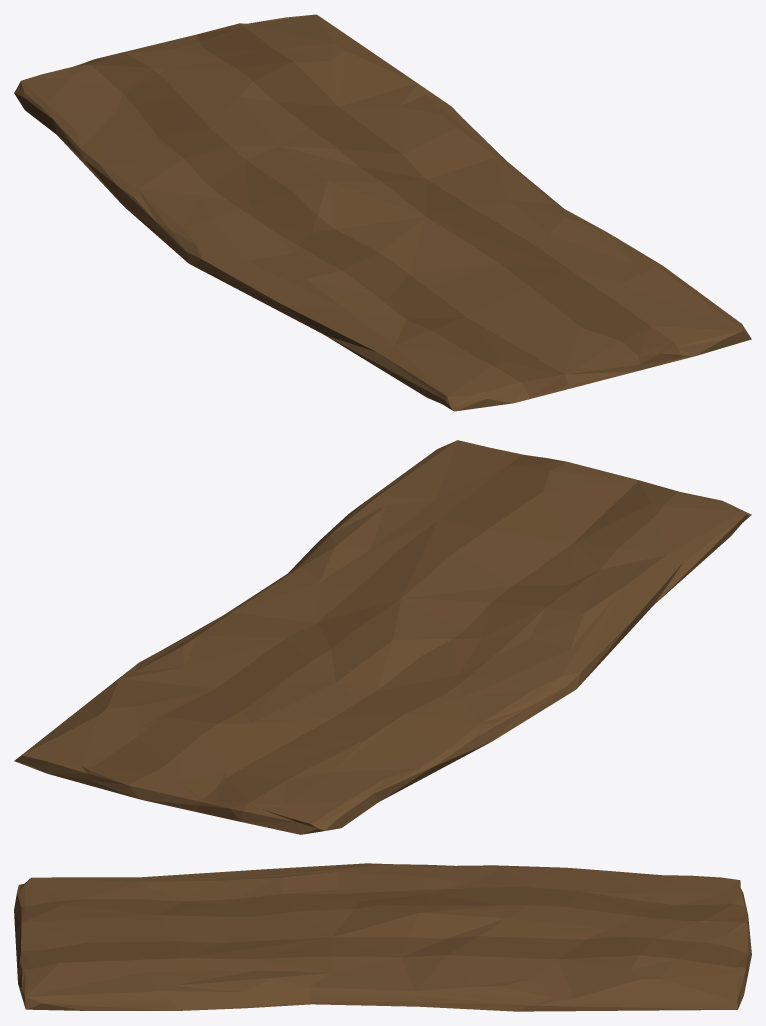
Rendered from Mesh_Landscape_MudRoad_02.FBX.
3 renders of one model, top to bottom at view 1: azimuth 30°, elevation 25°; view 2: azimuth 150°, elevation 25°; view 3: azimuth 270°, elevation 25°, orthographic. The views are drawn at different scales.
Visible parts, largest first — view 1: Mesh_Landscape_MudRoad_02; view 2: Mesh_Landscape_MudRoad_02; view 3: Mesh_Landscape_MudRoad_02.
Part boxes in pixels (x1=…): Mesh_Landscape_MudRoad_02: x1=14, y1=14, x2=751, y2=411; Mesh_Landscape_MudRoad_02: x1=14, y1=440, x2=751, y2=834; Mesh_Landscape_MudRoad_02: x1=14, y1=863, x2=751, y2=1011.
Bounding box in the file's own units: 387 × 850 × 30.11.
